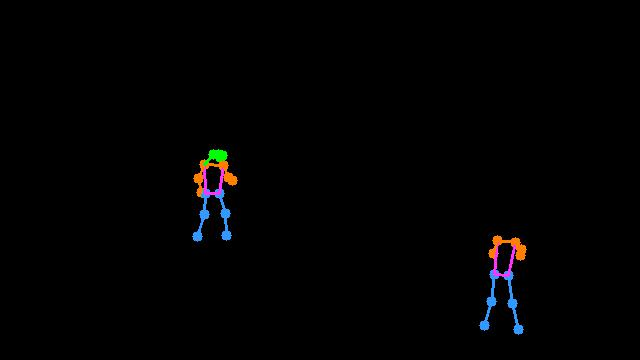normal: (468, 212, 540, 346), (186, 140, 237, 249)
